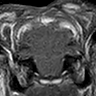Brain: (23, 23, 73, 77)
